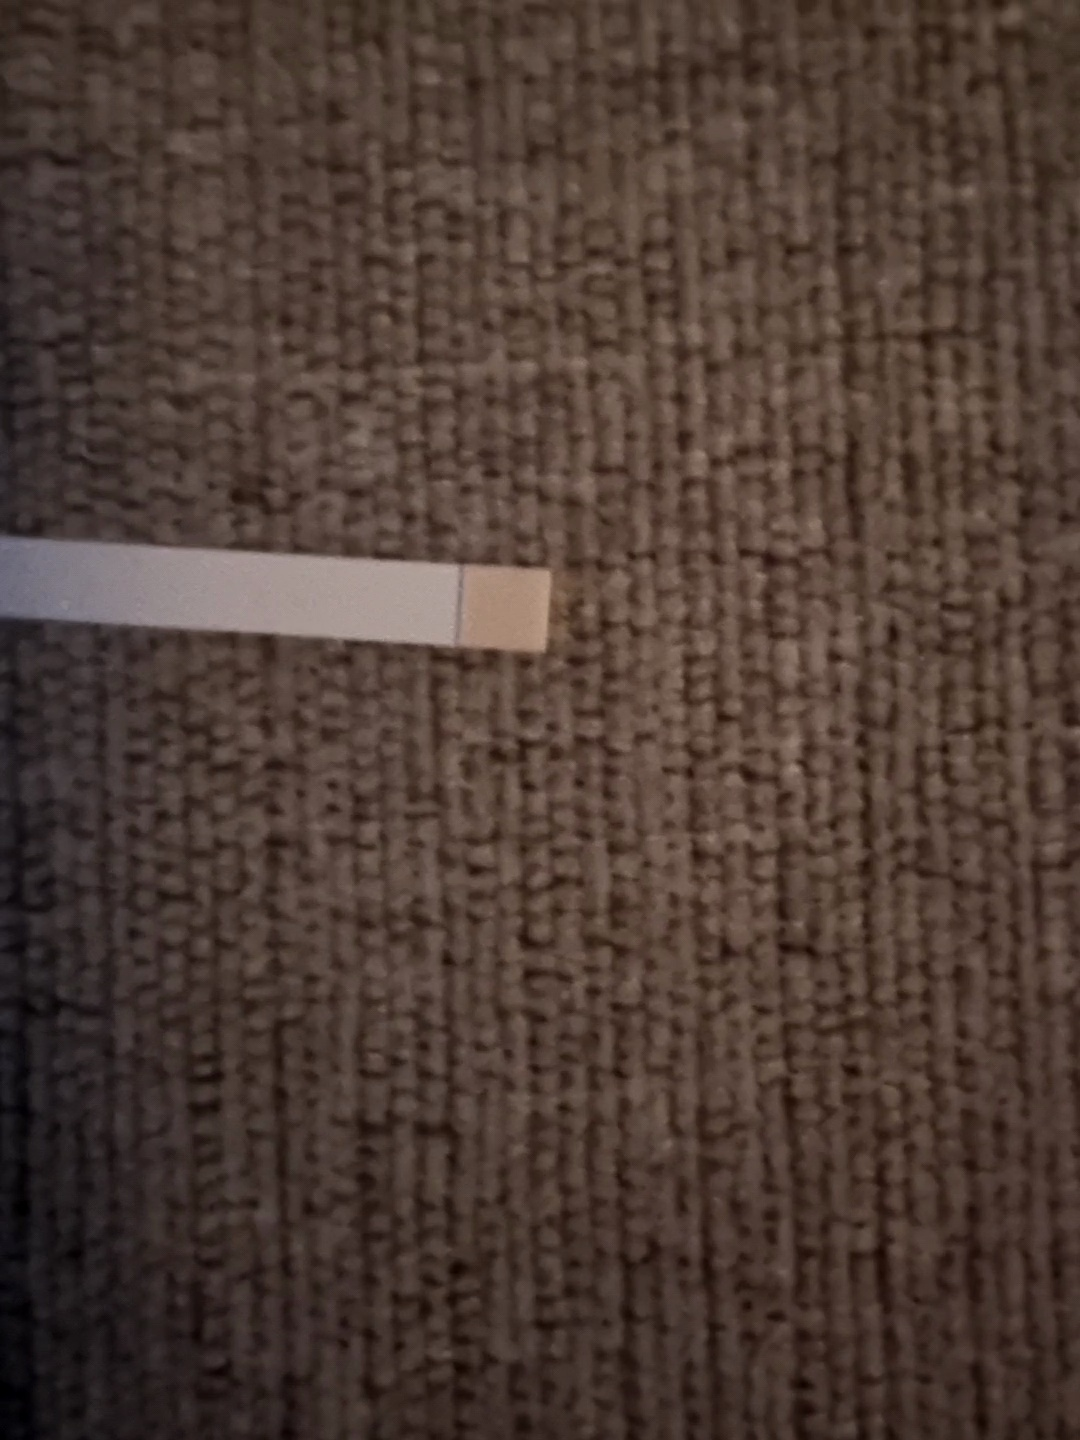keto-tip: (449, 554, 556, 652)
